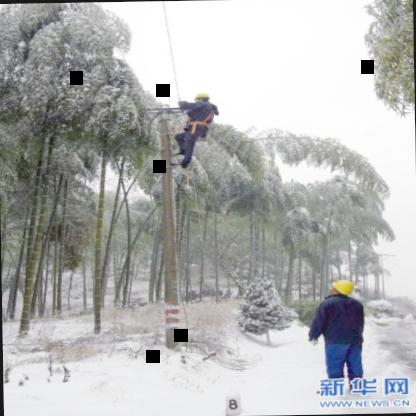helmet: (324, 276, 362, 300), (191, 92, 212, 108)
